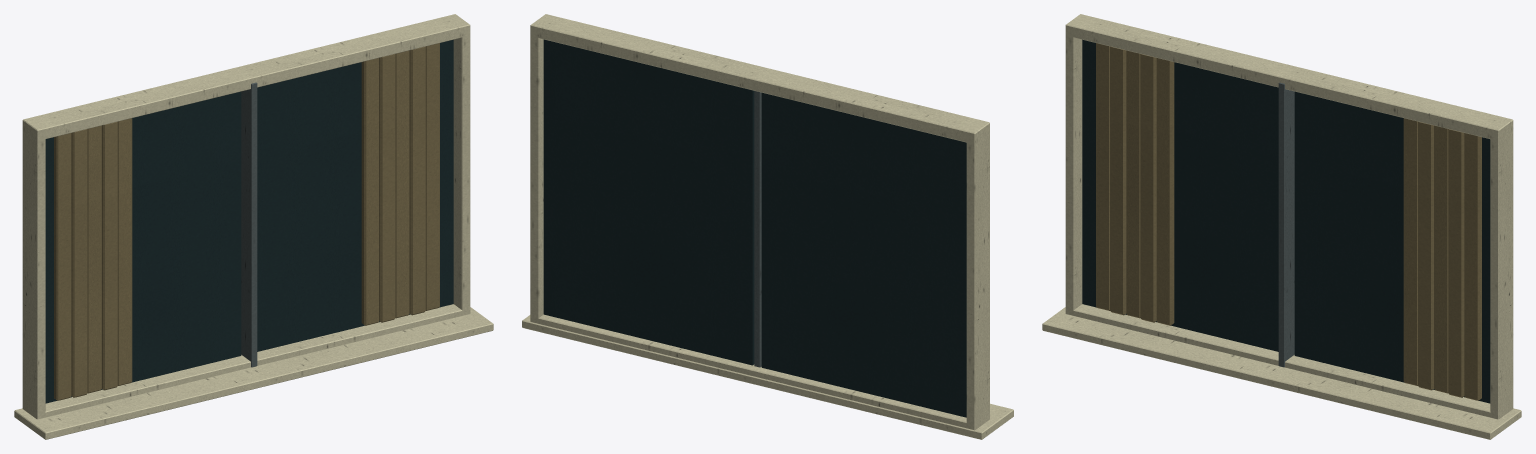
Rendered from room_window_insert.glb.
3 views of the same model, side by side, from view 1: azimuth 30°, elevation 25°; view 2: azimuth 150°, elevation 25°; view 3: azimuth 330°, elevation 25° (orthographic). The views are drawn at different scales.
Visible parts, largest first — view 1: room_window_insert; view 2: room_window_insert; view 3: room_window_insert.
Boxes of the visible parts, x1,y1,x2,y2 form: room_window_insert: (14, 14, 493, 439); room_window_insert: (522, 14, 1013, 439); room_window_insert: (1042, 14, 1521, 439).
Bounding box in the file's own units: 2.07 × 1.31 × 0.25.
Materials: 4 (4 with a texture image).
